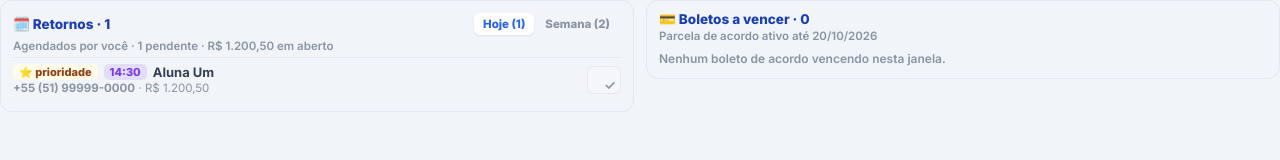
Test: PainelMeuDia: hora combinada, prioridade e total › o chip do dia mostra quantos prioritarios aquele dia tem
What coordinates should you click on to do the following:
click the tab "Semana (2)"
I would click on:
 (578, 24)
Its box is [536, 13, 619, 35].
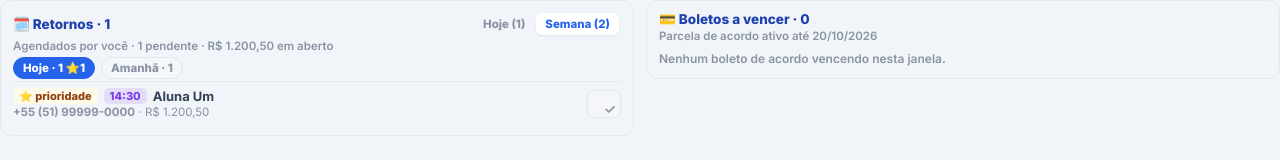
Expected: the elements with test id "meu-dia-chip-dia" read "Hoje · 1 ⭐1", "Amanhã · 1", in this order, [13, 57, 95, 79]; [101, 57, 183, 79]
